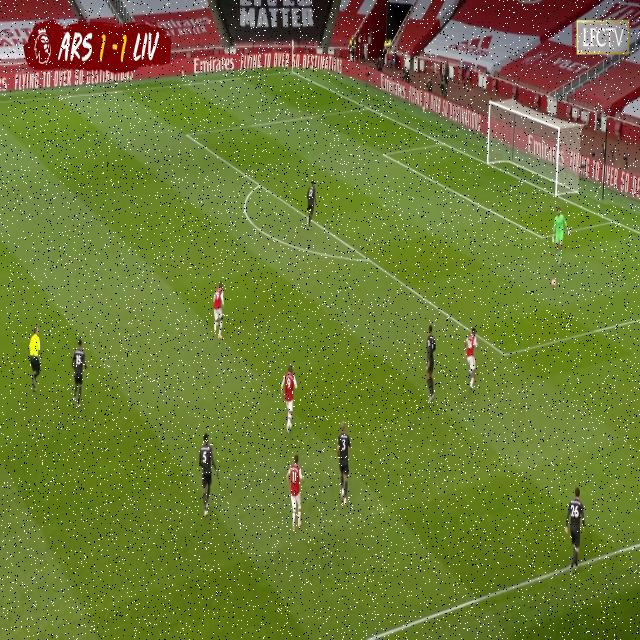Ball: (550, 275, 558, 288)
GoalKeeper: (554, 202, 570, 264)
TEAM 1: (281, 366, 298, 434), (464, 330, 479, 392), (213, 281, 226, 341)
TEAM 2: (566, 492, 587, 578), (199, 435, 220, 519), (336, 424, 353, 505), (70, 338, 88, 409), (287, 454, 303, 531), (425, 325, 438, 408), (306, 180, 317, 228)
